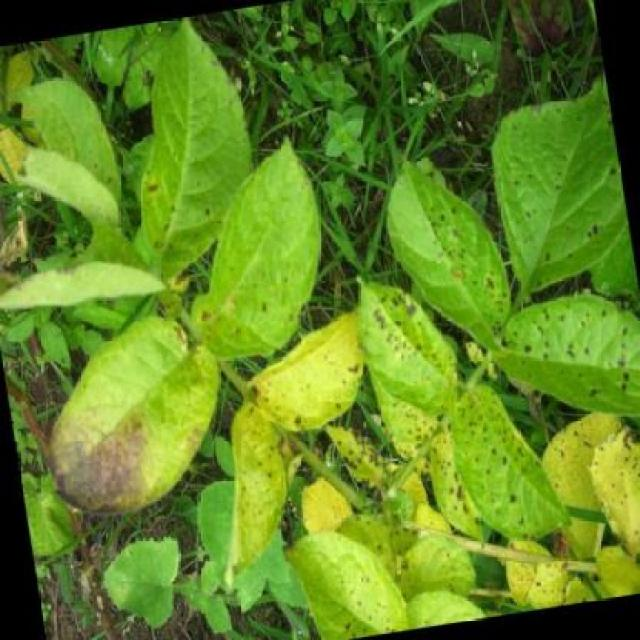Tomato leaf bacterial spot: (165, 123, 348, 369), (370, 146, 516, 380), (432, 343, 568, 568), (491, 280, 640, 438), (352, 260, 468, 437), (200, 385, 303, 580), (256, 311, 376, 437), (582, 429, 638, 554), (320, 414, 398, 501)
